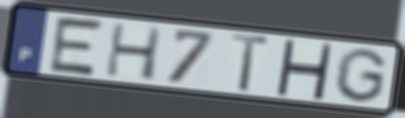7: (165, 27, 216, 87)
E: (45, 14, 108, 79)
G: (331, 46, 390, 105)
H: (273, 37, 335, 102), (103, 20, 165, 82)
T: (228, 31, 274, 95)
